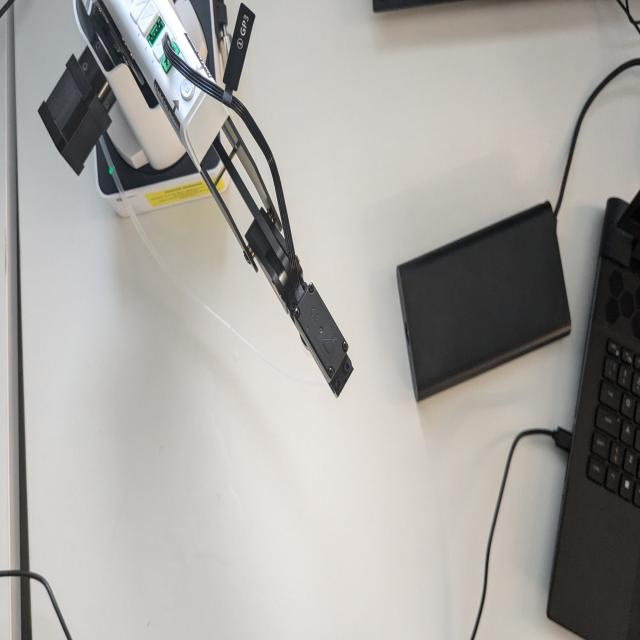Robot-end-effector-HF8z: (292, 280, 358, 407)
